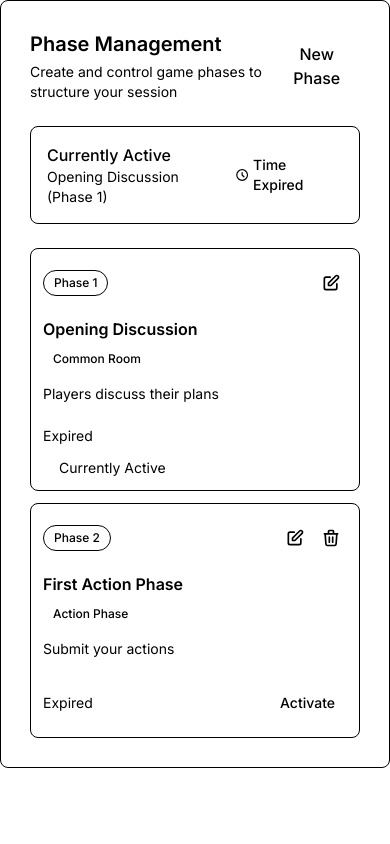
PhaseManagement › Phase Activation › should show confirmation dialog when activate clicked
Expected: the text "Action Phase" is shown, [53,606,128,621]
Click the button "Activate". click: (308, 702)
box: [268,680,347,724]
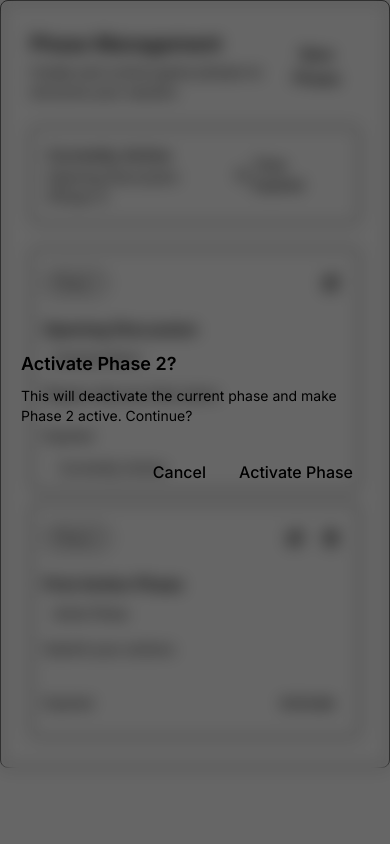
Expected: the heading "Activate Phase 2?" is shown, [21,353,176,374]
